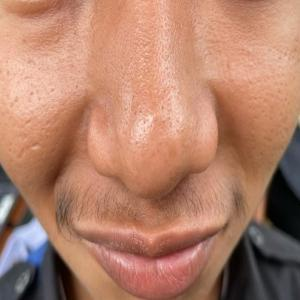Oily-Skin: (94, 5, 237, 165), (0, 33, 96, 167)
